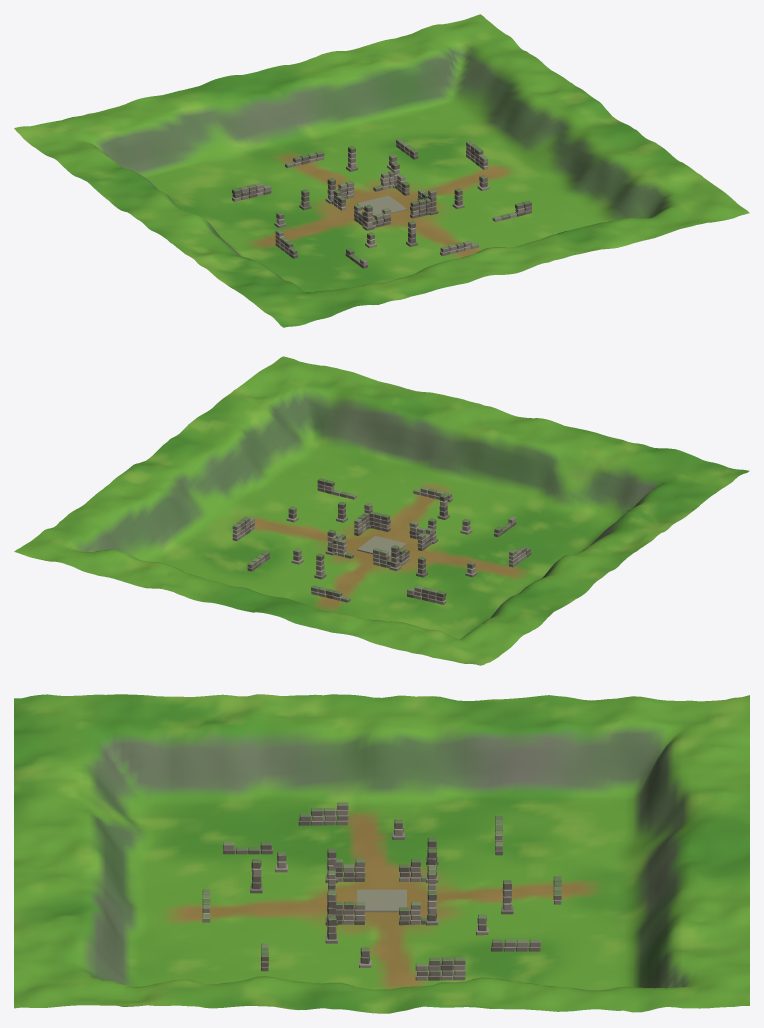
The model's file is arena2.glb.
The picture shows the model from 3 angles, top to bottom: view 1: azimuth 30°, elevation 25°; view 2: azimuth 150°, elevation 25°; view 3: azimuth 270°, elevation 25°; orthographic projection. The views are drawn at different scales.
Parts seen in each view (by area): view 1: BR_ArenaTerrain, BR_Ruins; view 2: BR_ArenaTerrain, BR_Ruins; view 3: BR_ArenaTerrain, BR_Ruins.
Boxes of the visible parts, x1,y1,x2,y2 form: BR_ArenaTerrain: (14, 14, 749, 327); BR_Ruins: (232, 138, 531, 268); BR_ArenaTerrain: (14, 356, 749, 665); BR_Ruins: (232, 478, 531, 604); BR_ArenaTerrain: (14, 694, 749, 1013); BR_Ruins: (202, 802, 561, 980).
Bounding box in the file's own units: 88 × 7.25 × 88.
